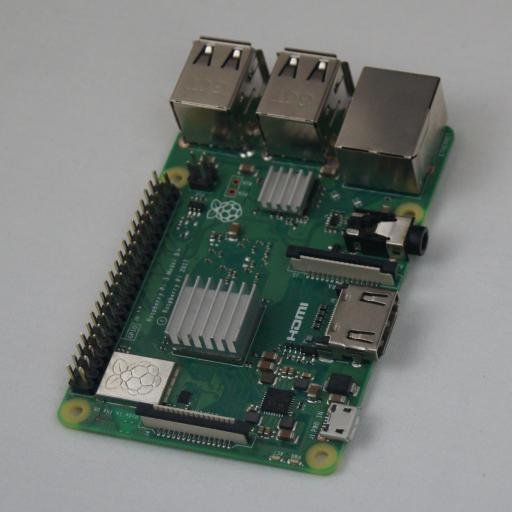Raspberry Pi 3 B-: (61, 37, 455, 475)
